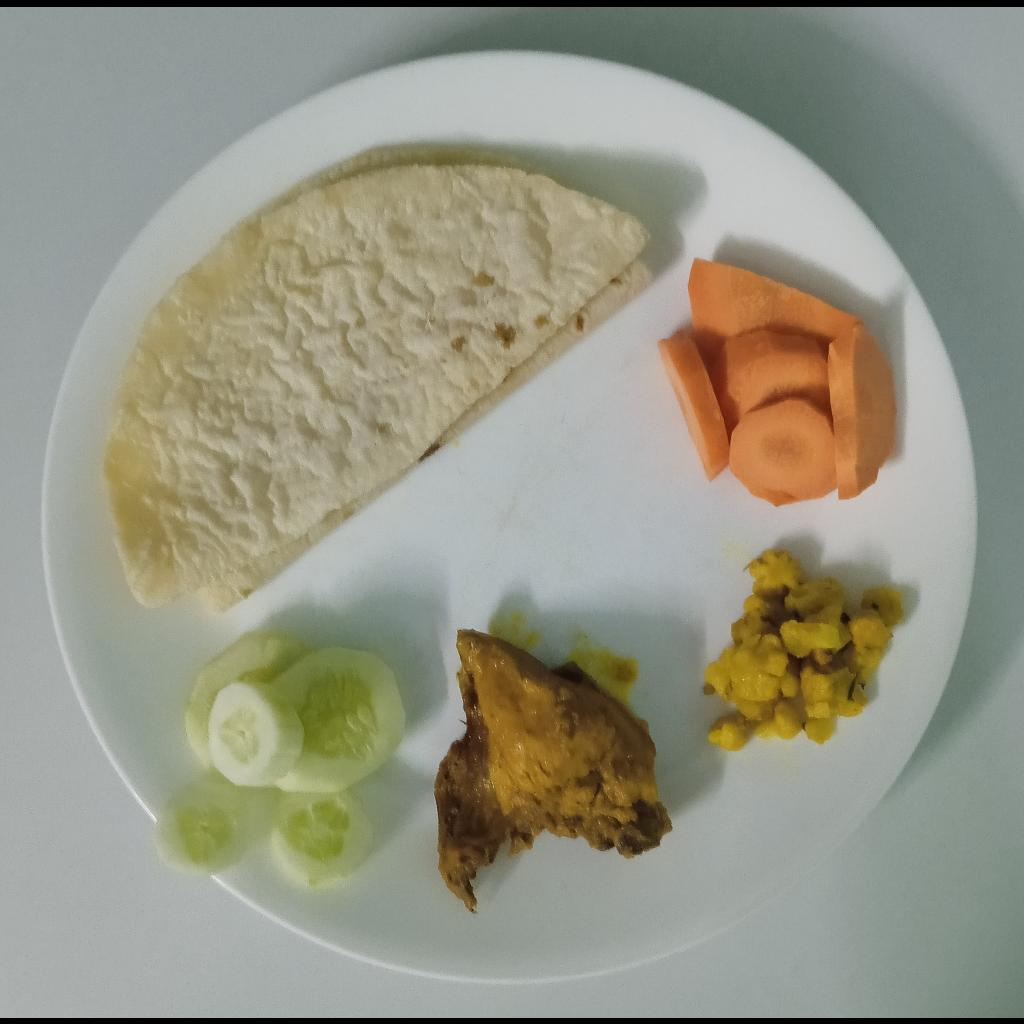carrot: (658, 256, 894, 505)
chicken: (435, 628, 674, 908)
cucumber: (185, 630, 407, 887), (154, 794, 237, 879)
kumra-vaji: (702, 552, 902, 749)
ruti: (102, 147, 655, 615)
